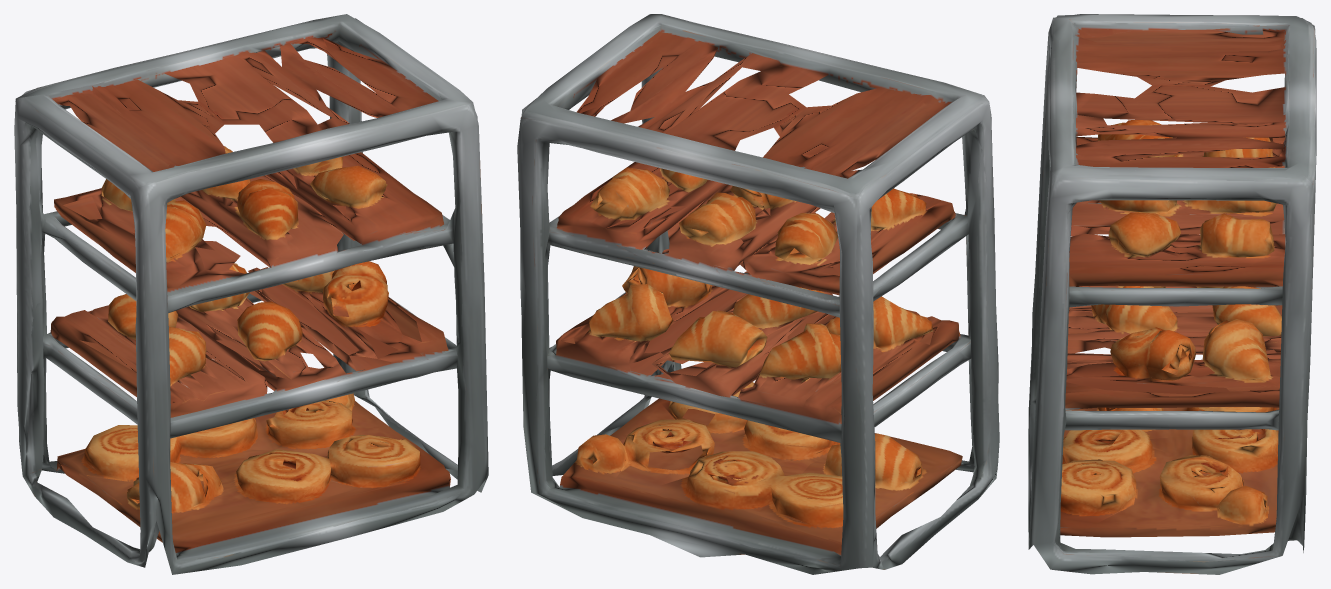
Rendered from studentcafe_SnackDisplay.glb.
3 views of the same model, side by side, from view 1: azimuth 30°, elevation 25°; view 2: azimuth 150°, elevation 25°; view 3: azimuth 270°, elevation 25° (orthographic).
Visible parts, largest first — view 1: world; view 2: world; view 3: world.
Part boxes in pixels (x1,y1,x2,y2): world: [14, 14, 488, 574]; world: [517, 14, 999, 574]; world: [1028, 14, 1316, 574].
Size of the model in its own units: 0.8731 by 0.9953 by 0.6379.
1 material, 1 textured.
